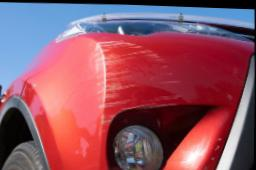Bumper: (87, 34, 193, 134)
